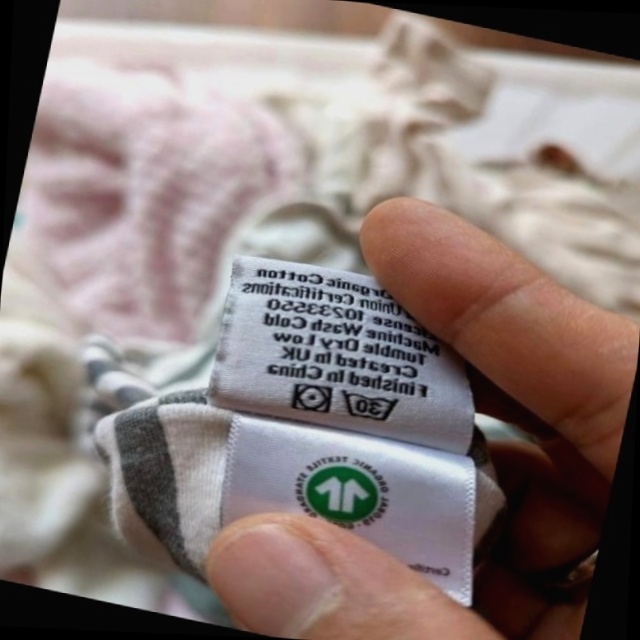30C: (334, 382, 406, 430)
tumble_dry_low: (286, 376, 337, 421)
